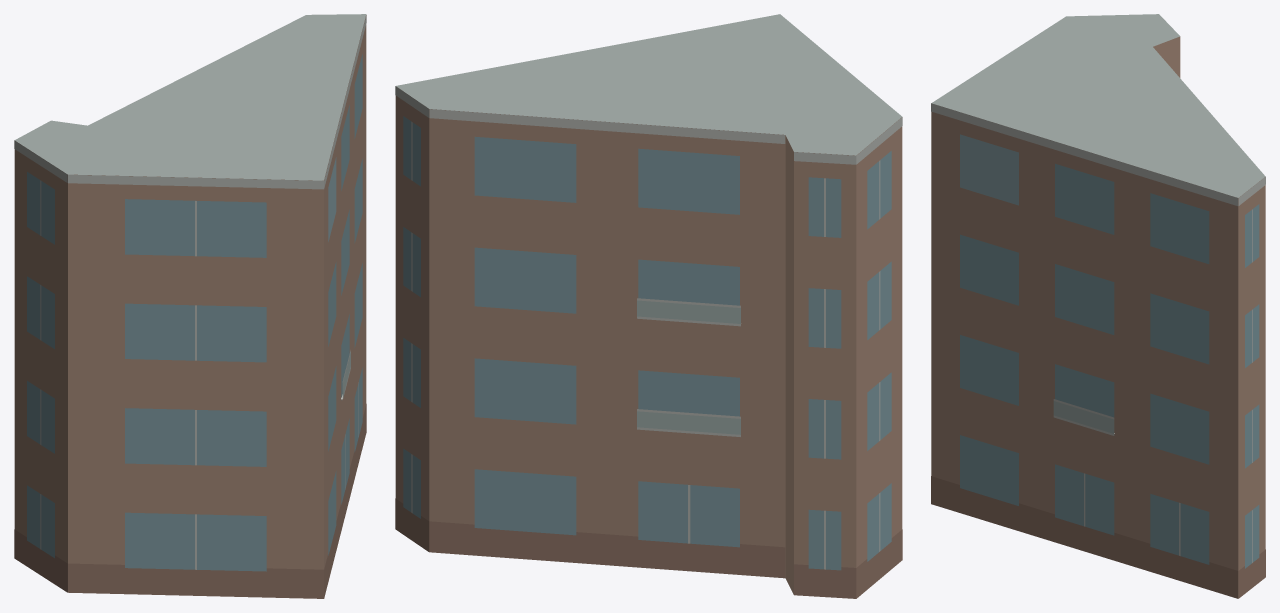
File: survey-upis-32458367.glb
3 renders of one model, left to right at view 1: azimuth 30°, elevation 25°; view 2: azimuth 150°, elevation 25°; view 3: azimuth 270°, elevation 25°, orthographic. The views are drawn at different scales.
Visible parts, largest first — view 1: survey-upis-32458367.tmp; view 2: survey-upis-32458367.tmp; view 3: survey-upis-32458367.tmp.
Part boxes in pixels (<box>): survey-upis-32458367.tmp: <box>14,14,366,598</box>; survey-upis-32458367.tmp: <box>395,14,902,598</box>; survey-upis-32458367.tmp: <box>931,14,1265,598</box>.
Size of the model in its own units: 11.53 by 11.7 by 8.86.
